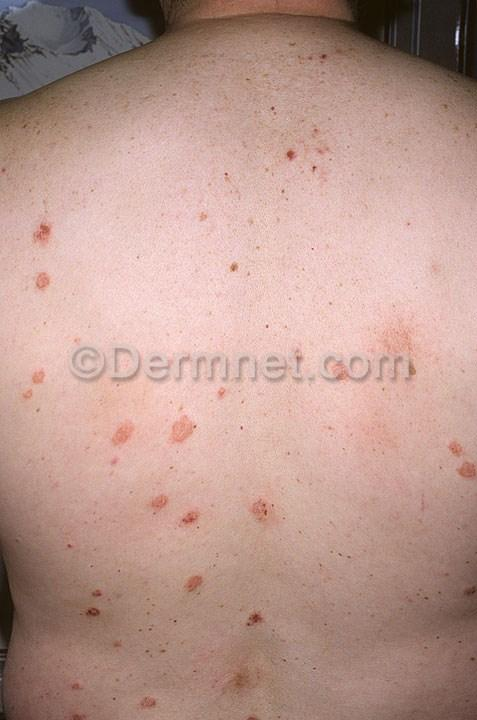Eczema: (52, 573, 291, 720), (209, 73, 383, 219), (109, 490, 333, 587), (93, 402, 226, 486), (2, 203, 93, 316), (395, 402, 477, 501), (355, 294, 446, 374), (1, 359, 67, 421)
